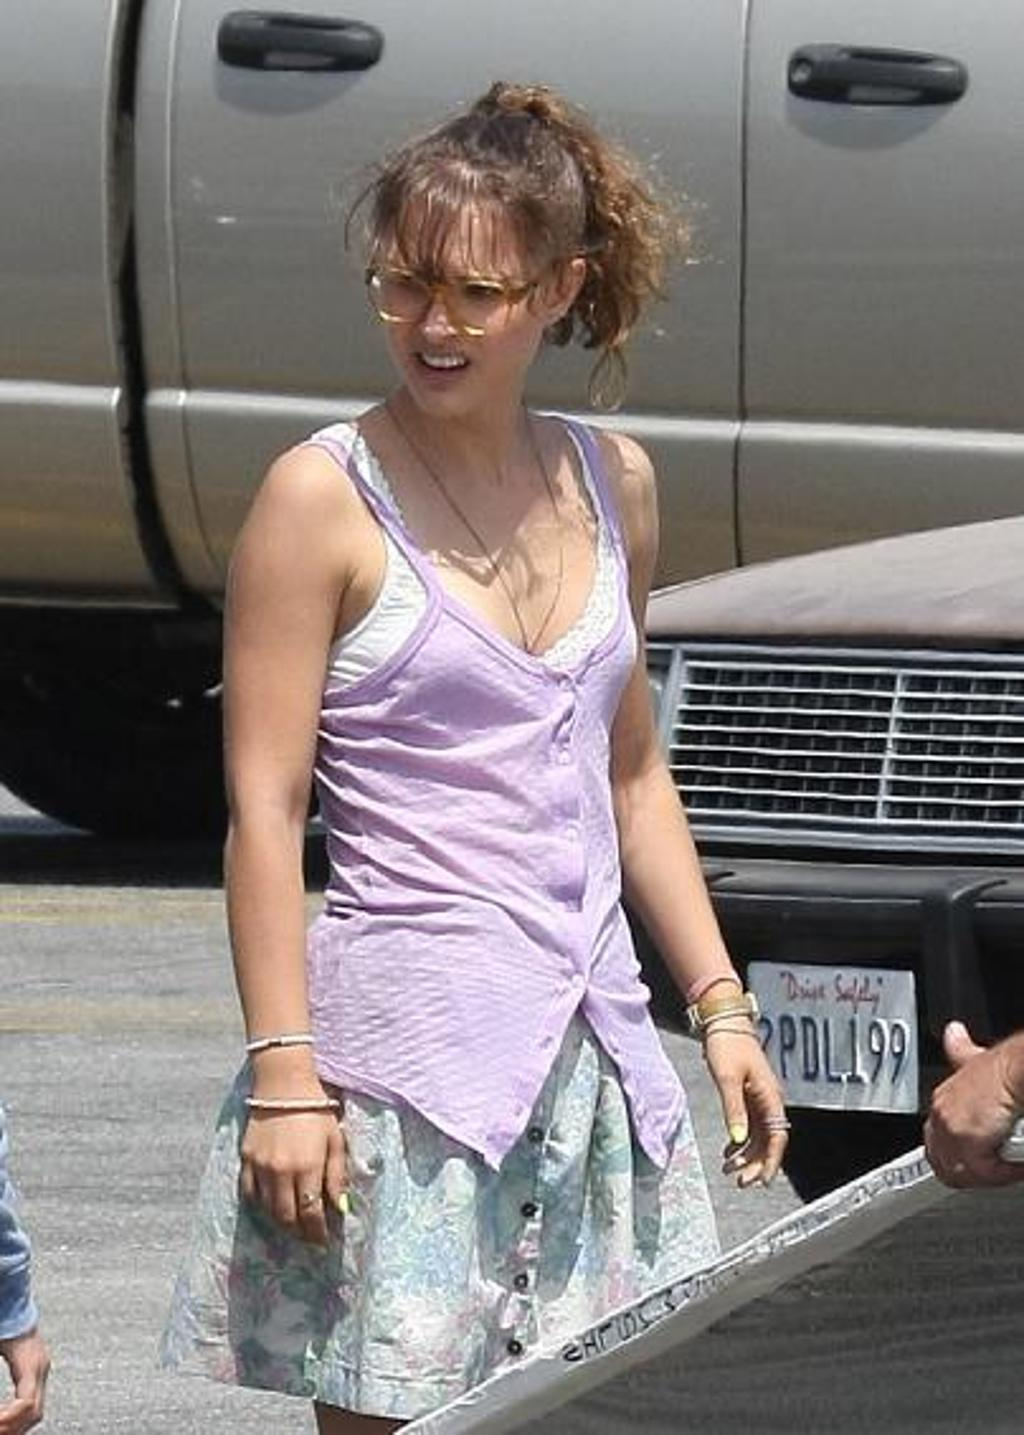face: (384, 199, 541, 423)
